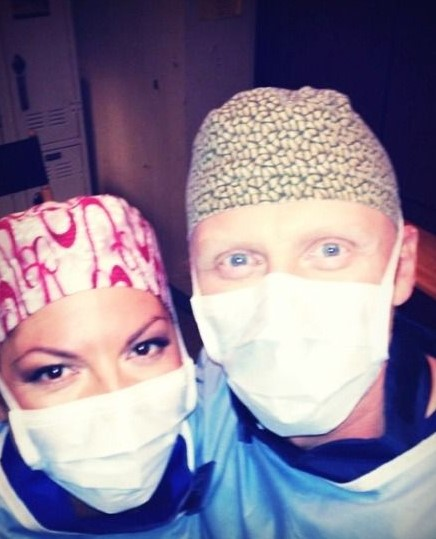face_with_mask: (182, 86, 419, 436), (1, 193, 196, 511)
